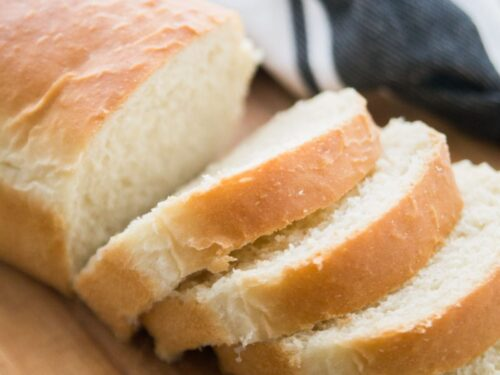Bread: (7, 5, 496, 370)
